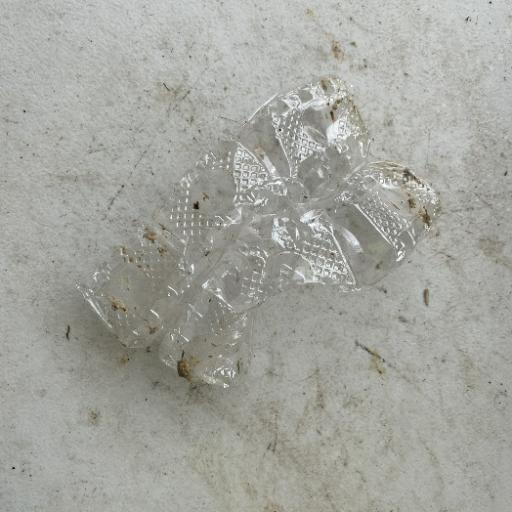Plastic: (74, 73, 443, 390)
